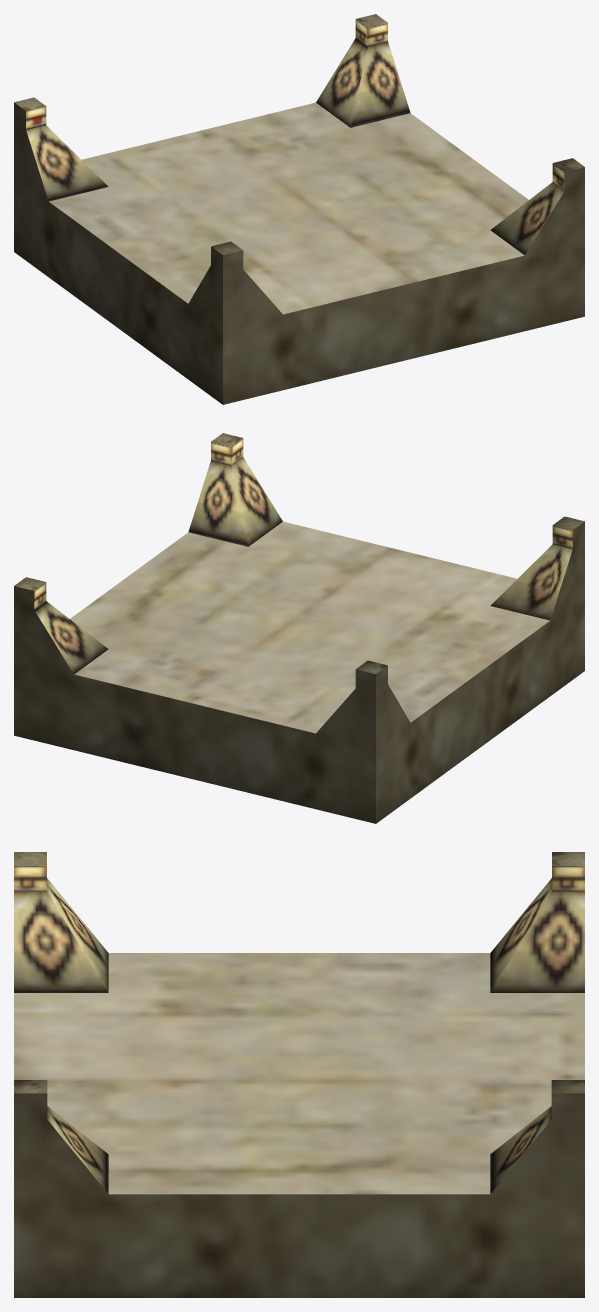
The model's file is jun_tile_stone_crossroad.obj.
3 renders of one model, top to bottom at view 1: azimuth 30°, elevation 25°; view 2: azimuth 150°, elevation 25°; view 3: azimuth 270°, elevation 25°, orthographic. The views are drawn at different scales.
Visible parts, largest first — view 1: mid04; view 2: mid04; view 3: mid04.
Part boxes in pixels (box(x1,y1,x2,y2)): mid04: box(14, 14, 584, 404); mid04: box(14, 433, 584, 823); mid04: box(14, 852, 584, 1297).
Bounding box in the file's own units: 1 × 0.395 × 1.
Materials: 1 (1 with a texture image).
